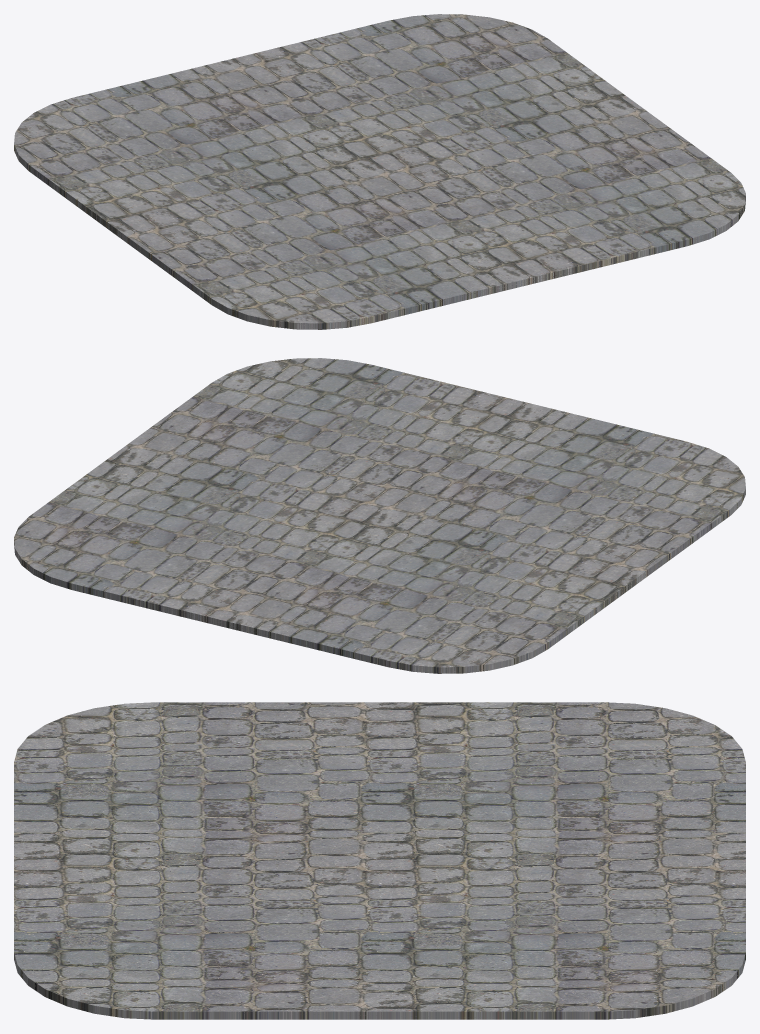
The model's file is pavement.obj.
3 renders of one model, top to bottom at view 1: azimuth 30°, elevation 25°; view 2: azimuth 150°, elevation 25°; view 3: azimuth 270°, elevation 25°, orthographic. The views are drawn at different scales.
Parts seen in each view (by area): view 1: Plane; view 2: Plane; view 3: Plane.
Part boxes in pixels (left/top/right/bottom): Plane: left=14, top=14, right=745, bottom=329; Plane: left=14, top=358, right=745, bottom=673; Plane: left=14, top=702, right=745, bottom=1019.
Size of the model in its own units: 5 by 0.06 by 5.
Materials: 1 (1 with a texture image).
